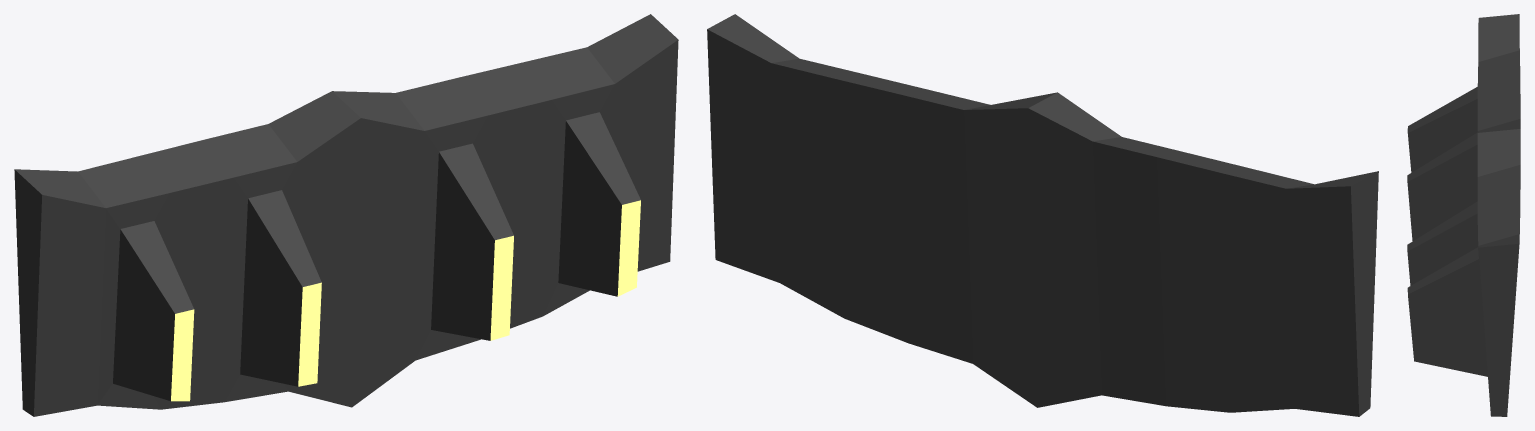
Rendered from hammeraxe.fbx.
3 renders of one model, left to right at view 1: azimuth 30°, elevation 25°; view 2: azimuth 150°, elevation 25°; view 3: azimuth 270°, elevation 25°, orthographic. The views are drawn at different scales.
Parts seen in each view (by area): view 1: hammeraxe; view 2: hammeraxe; view 3: hammeraxe.
Boxes of the visible parts, bbox=[...] form: hammeraxe: bbox=[14, 14, 678, 416]; hammeraxe: bbox=[707, 14, 1378, 416]; hammeraxe: bbox=[1407, 14, 1520, 416].
Bounding box in the file's own units: 519 × 236 × 108.
